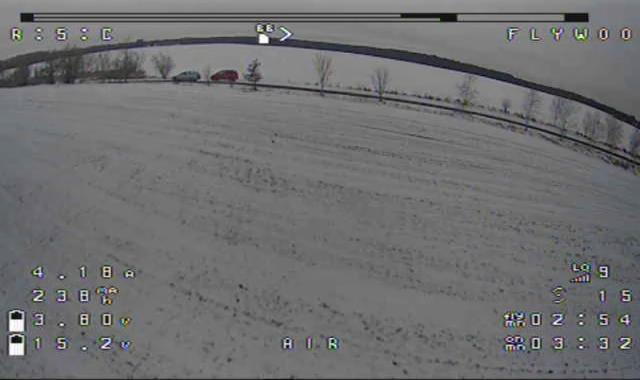car: (172, 66, 201, 86), (211, 66, 243, 84)
